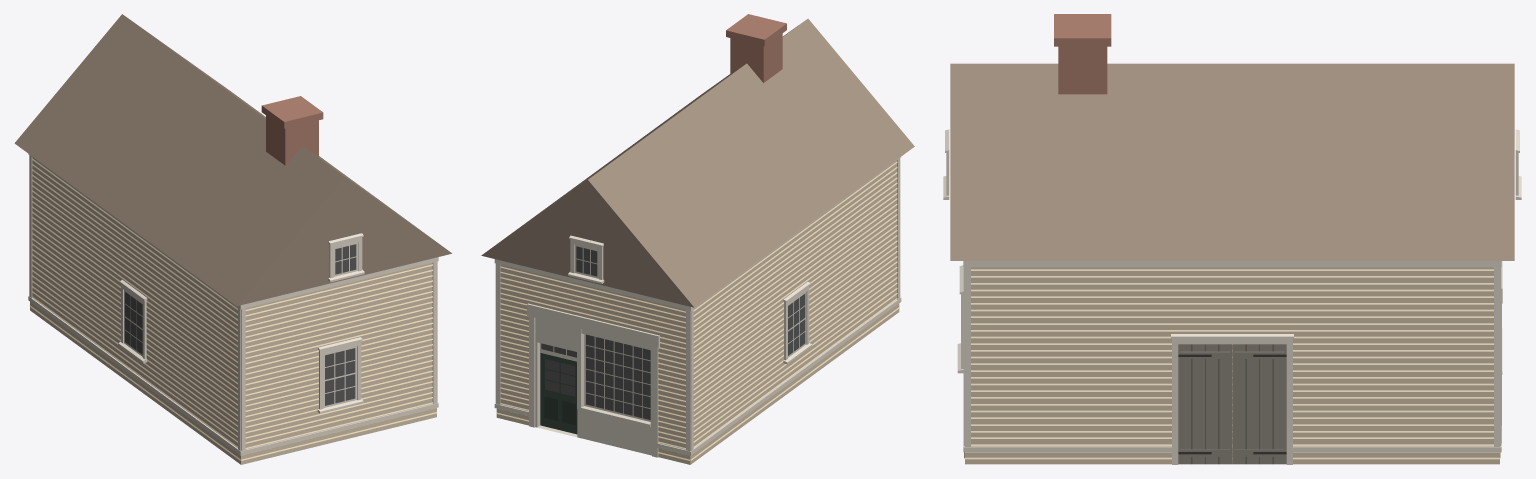
Rendered from recon_1835_gifford_c2_011__inferred_1835.glb.
3 renders of one model, left to right at view 1: azimuth 30°, elevation 25°; view 2: azimuth 150°, elevation 25°; view 3: azimuth 270°, elevation 25°, orthographic. The views are drawn at different scales.
Visible parts, largest first — view 1: recon_1835_gifford_c2_011__inferred_1835; view 2: recon_1835_gifford_c2_011__inferred_1835; view 3: recon_1835_gifford_c2_011__inferred_1835.
Boxes of the visible parts, box(x1,y1,x2,y2) form: recon_1835_gifford_c2_011__inferred_1835: box(14, 14, 451, 464); recon_1835_gifford_c2_011__inferred_1835: box(481, 14, 914, 464); recon_1835_gifford_c2_011__inferred_1835: box(943, 14, 1521, 464).
Size of the model in its own units: 5.4 by 7.13 by 9.9.
